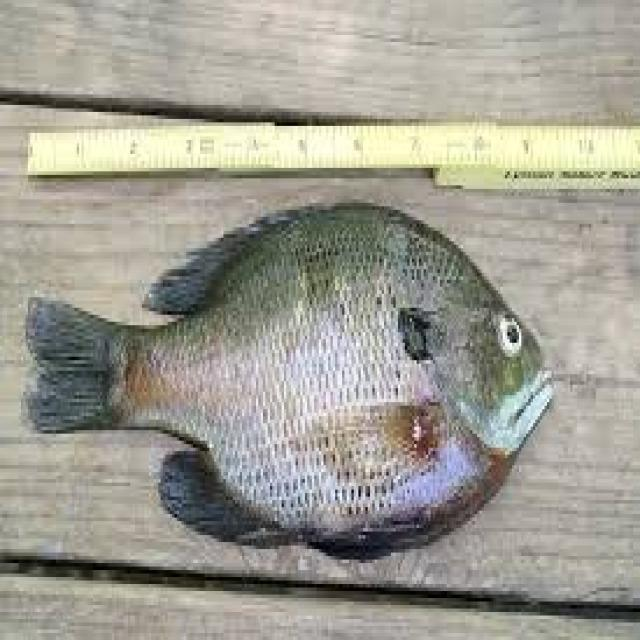EUS Disease: (22, 202, 570, 557), (378, 265, 467, 398)
